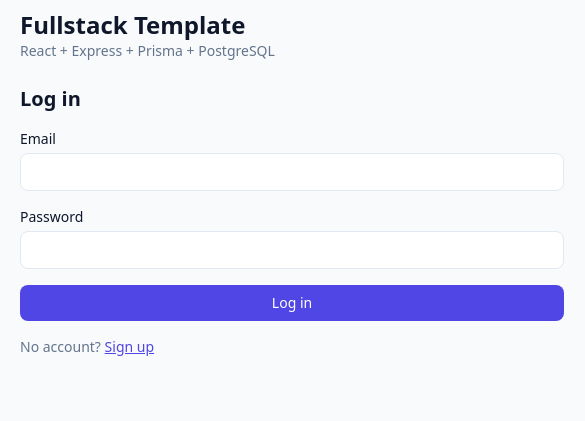
it: auth routing › shows client-side validation errors without calling the API
Click the button "Log in".
click(292, 303)  # box [20,285,564,321]
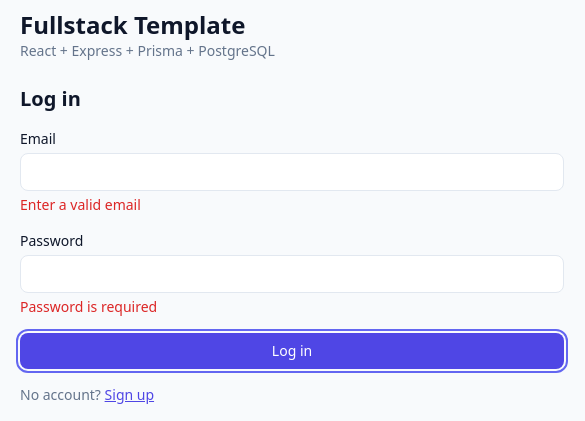
expect the text "Enter a valid email" is shown: met, box [20,195,141,214]
